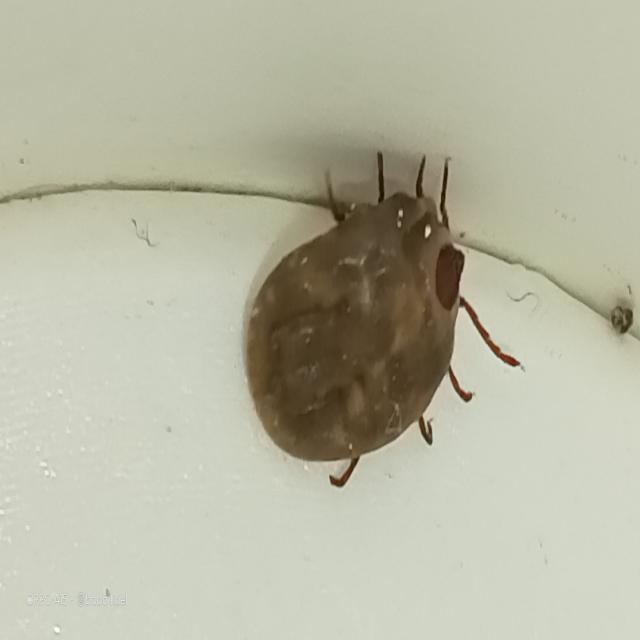Rhipicephalus Sanguineus-F-Fed: (240, 150, 521, 489)
